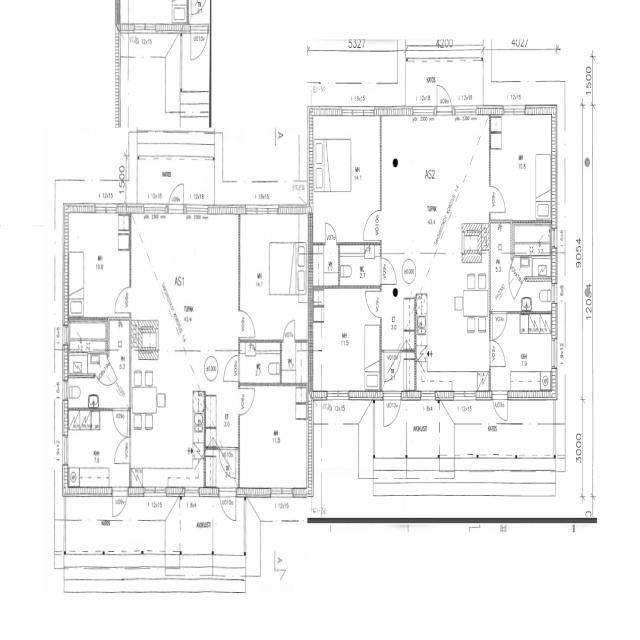door: (218, 486, 238, 525), (225, 360, 250, 391), (382, 390, 401, 430), (188, 23, 208, 61), (434, 81, 454, 118), (361, 207, 382, 242), (167, 180, 186, 217), (111, 282, 132, 315), (112, 433, 132, 467), (110, 485, 128, 522), (237, 306, 257, 339), (491, 390, 509, 424), (380, 254, 398, 288), (488, 182, 507, 214), (221, 352, 240, 384), (238, 384, 256, 417), (382, 348, 400, 381), (111, 407, 130, 438), (364, 288, 382, 320), (219, 444, 237, 476), (490, 311, 508, 342), (489, 337, 506, 367), (580, 494, 597, 519), (282, 316, 297, 343), (323, 219, 338, 246), (509, 276, 523, 299)
window: (179, 546, 214, 567), (3, 221, 40, 236), (342, 103, 376, 119), (246, 202, 278, 218), (268, 485, 296, 502), (142, 202, 168, 219), (326, 388, 352, 405), (142, 484, 169, 500), (184, 204, 210, 220), (452, 388, 478, 404), (454, 104, 479, 120), (412, 104, 435, 120), (502, 103, 526, 118), (61, 430, 70, 469), (132, 23, 159, 36), (94, 202, 117, 216), (418, 389, 438, 405), (181, 486, 201, 500), (550, 335, 558, 370), (550, 224, 557, 252), (551, 280, 558, 304)
zone: (390, 113, 494, 382), (128, 215, 240, 354), (413, 258, 491, 392), (130, 356, 206, 492), (312, 112, 382, 242), (238, 211, 308, 340), (238, 384, 310, 493), (311, 286, 382, 396), (65, 210, 131, 318), (490, 113, 554, 221), (64, 408, 132, 496), (491, 314, 556, 398), (124, 47, 170, 129), (66, 360, 114, 410), (512, 222, 555, 275), (117, 0, 186, 32), (380, 292, 415, 353), (338, 242, 382, 287), (239, 340, 282, 385), (66, 316, 108, 356), (517, 272, 554, 314), (310, 242, 341, 288), (280, 341, 310, 386)
